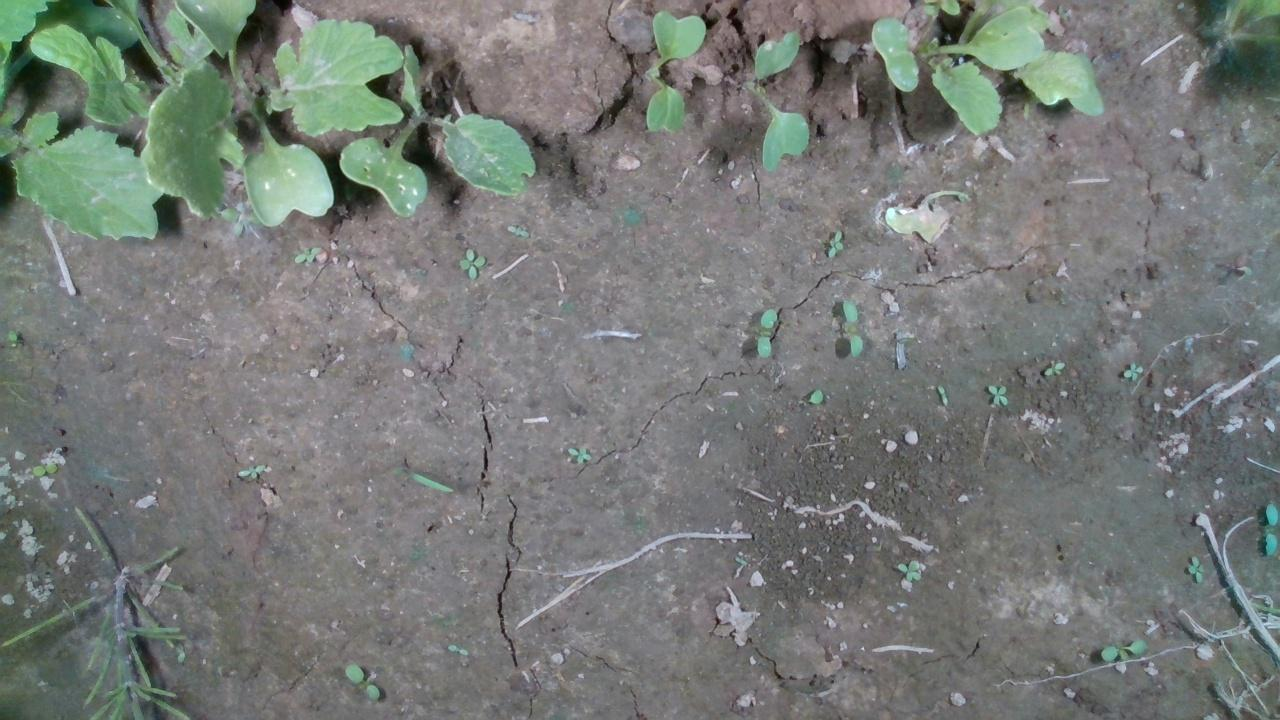weed: (343, 660, 381, 701), (842, 296, 864, 359), (1099, 637, 1148, 663), (754, 306, 778, 359), (453, 246, 486, 281), (1261, 499, 1277, 558), (292, 242, 321, 265), (894, 558, 920, 581), (825, 227, 844, 258), (1186, 553, 1204, 585), (985, 382, 1008, 407), (235, 461, 265, 480), (1120, 360, 1143, 382), (565, 444, 591, 463), (1042, 357, 1065, 378), (29, 461, 58, 476), (505, 223, 529, 237), (444, 643, 469, 655)
